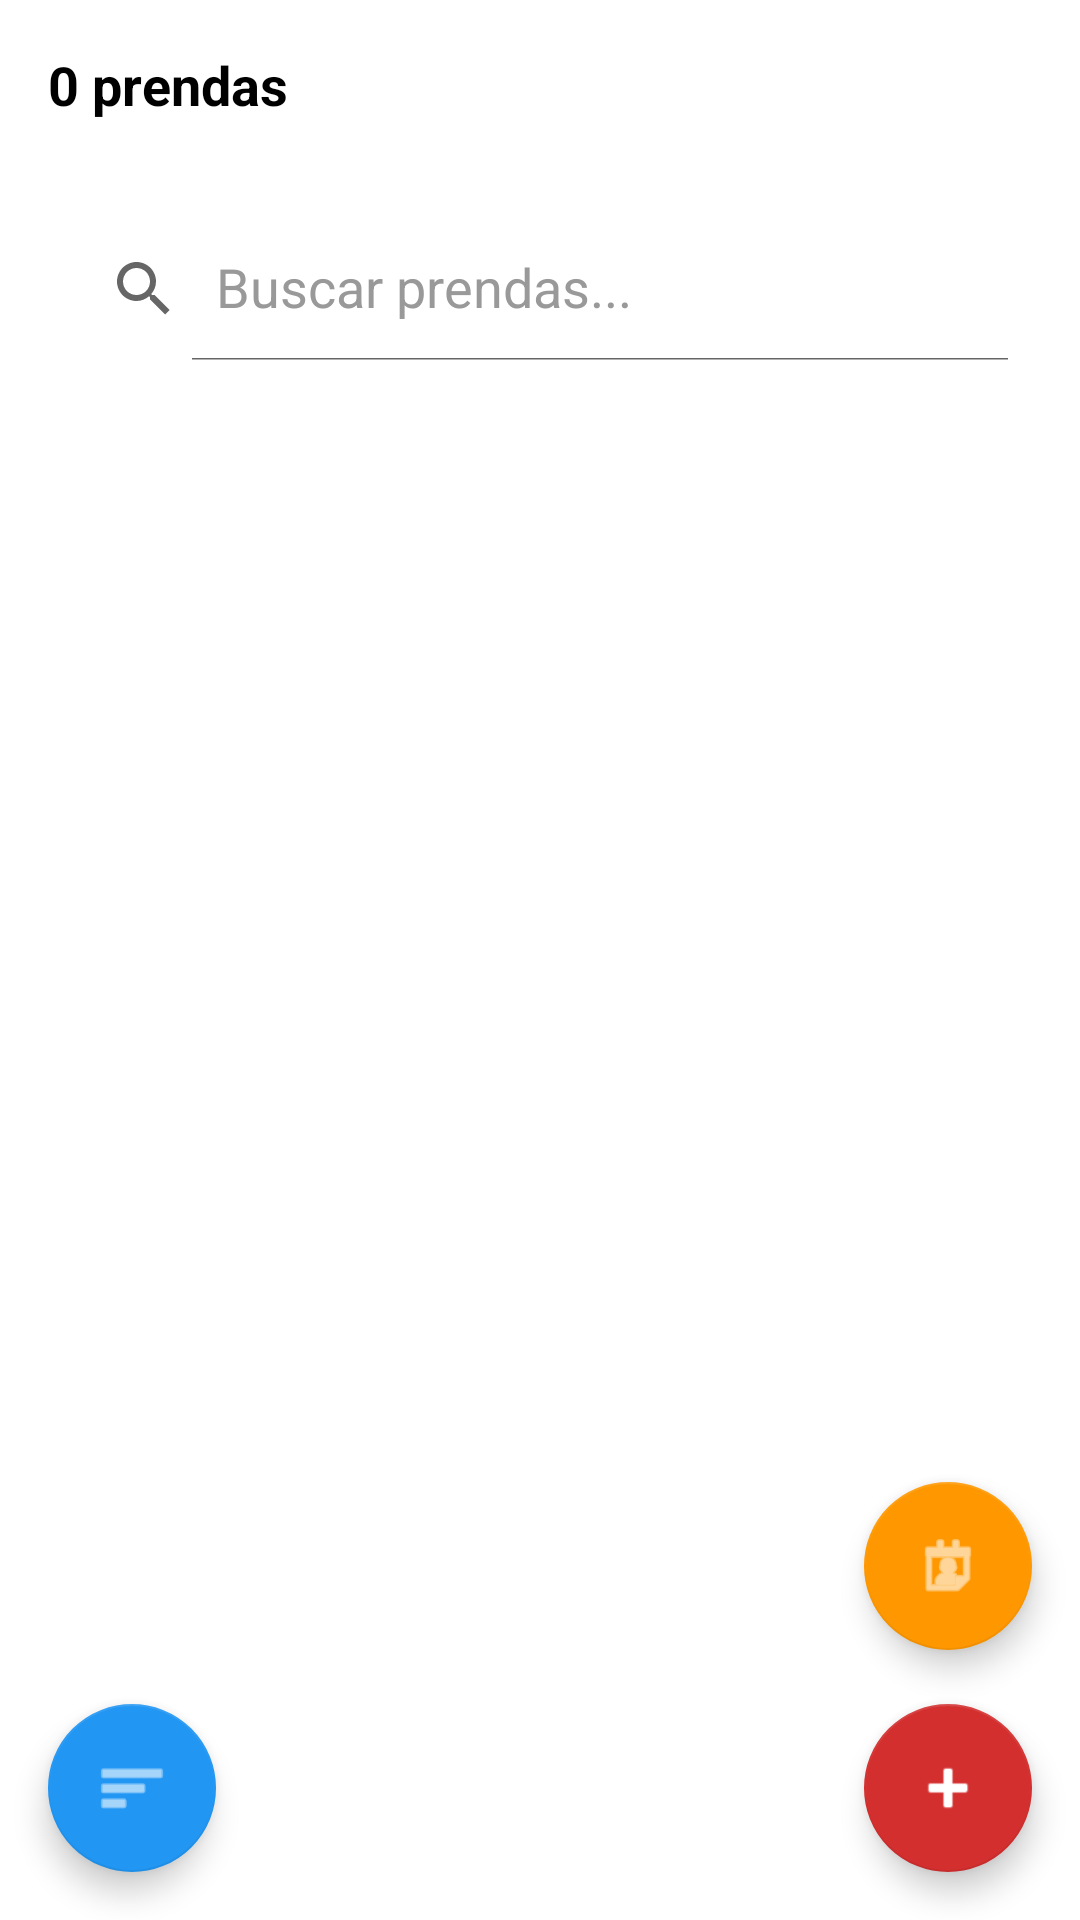

Screen size 1080px×1920px. Icon name, then its center in pixels as point (x, y):
add: point (948, 1788)
calendar: point (948, 1566)
sort by size: point (132, 1788)
